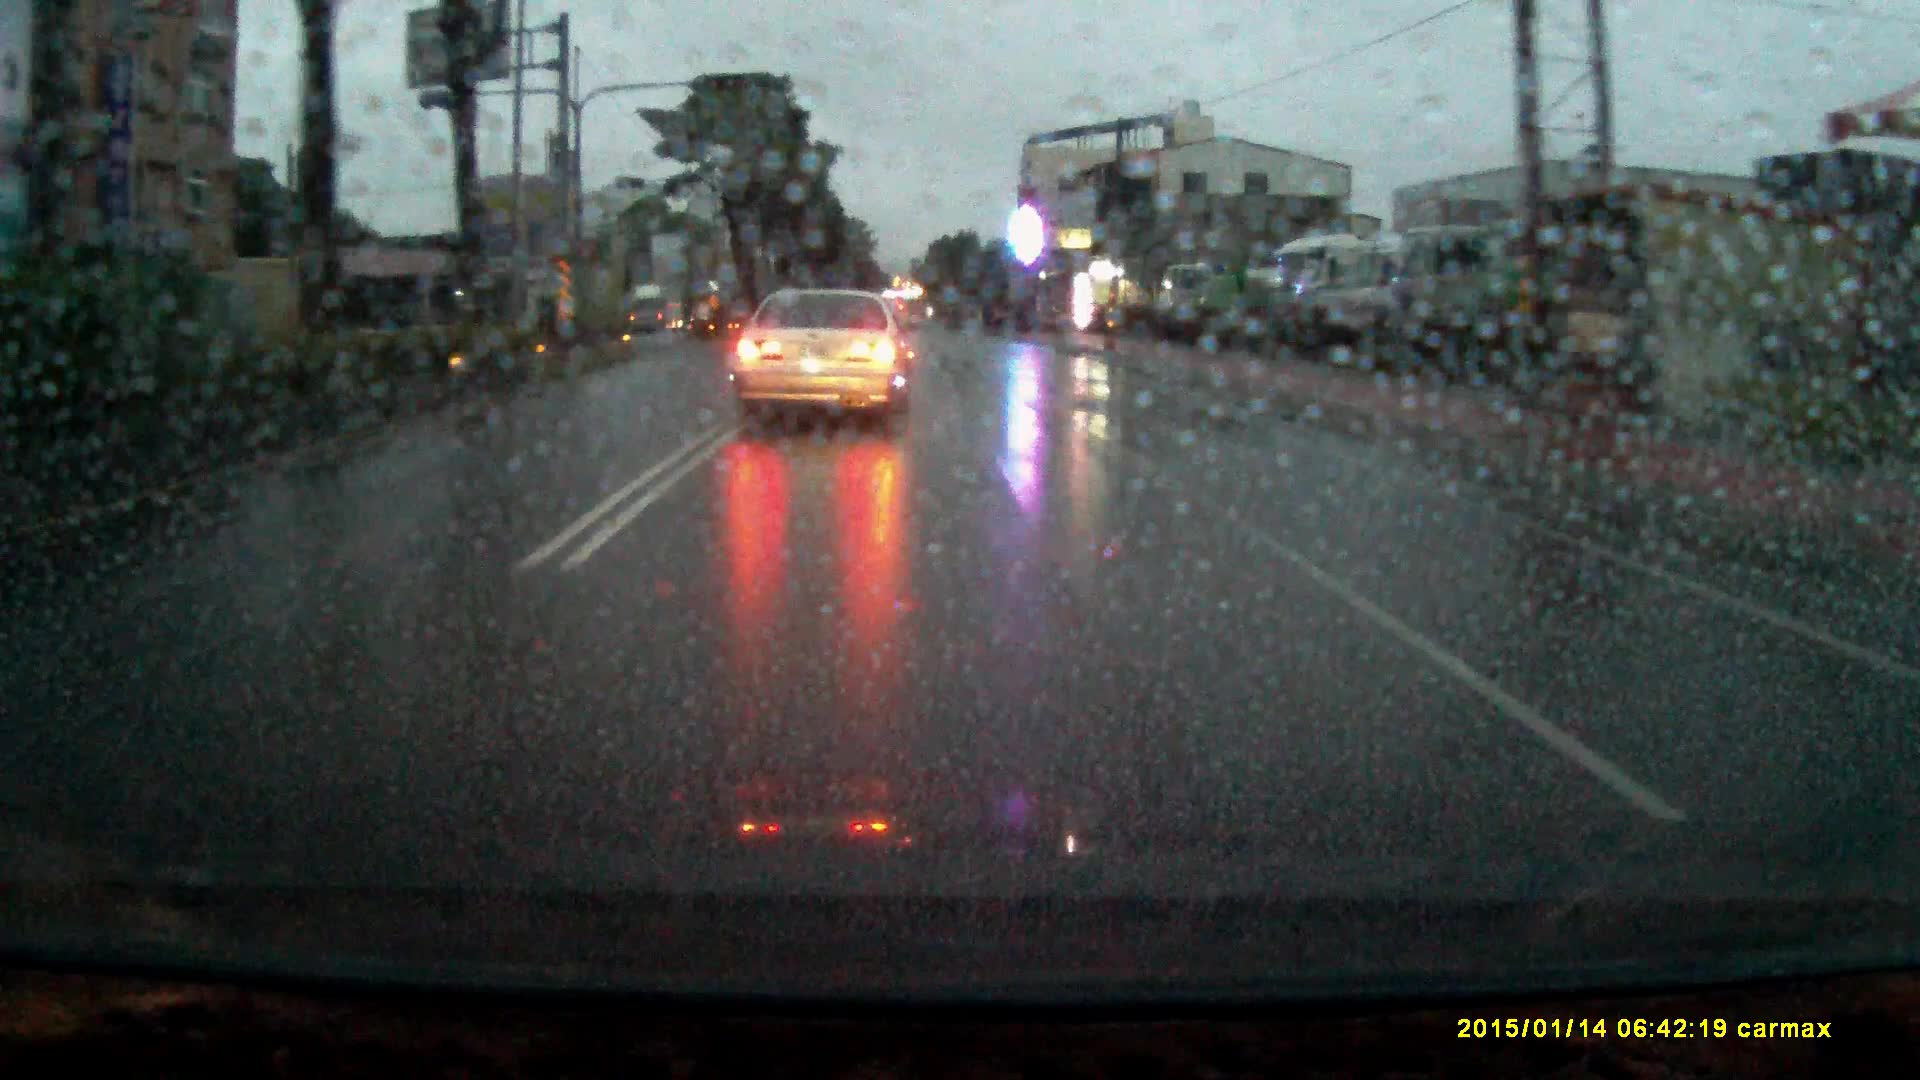vehicle: (732, 287, 919, 436), (1391, 228, 1505, 372), (1315, 239, 1402, 359), (1278, 237, 1364, 345), (1199, 272, 1284, 327), (1162, 261, 1221, 335), (632, 286, 686, 334)
